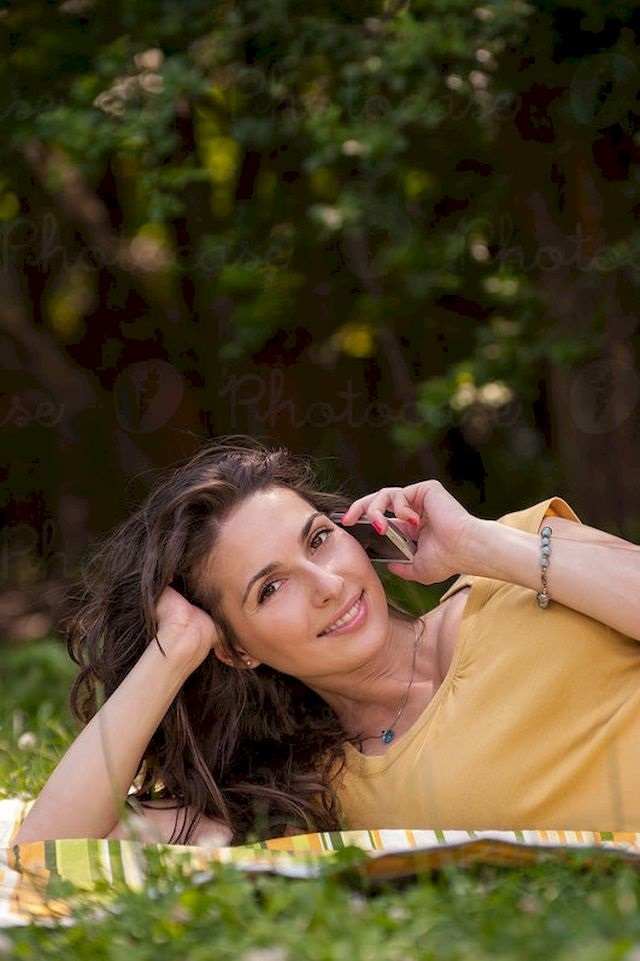phone: (315, 503, 430, 571)
talk: (227, 477, 453, 671)
